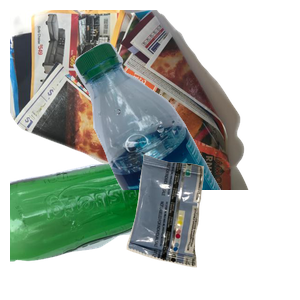glass: (10, 149, 203, 300)
paper: (10, 10, 250, 190)
plastic: (71, 39, 300, 219)
trash: (124, 152, 300, 300)
